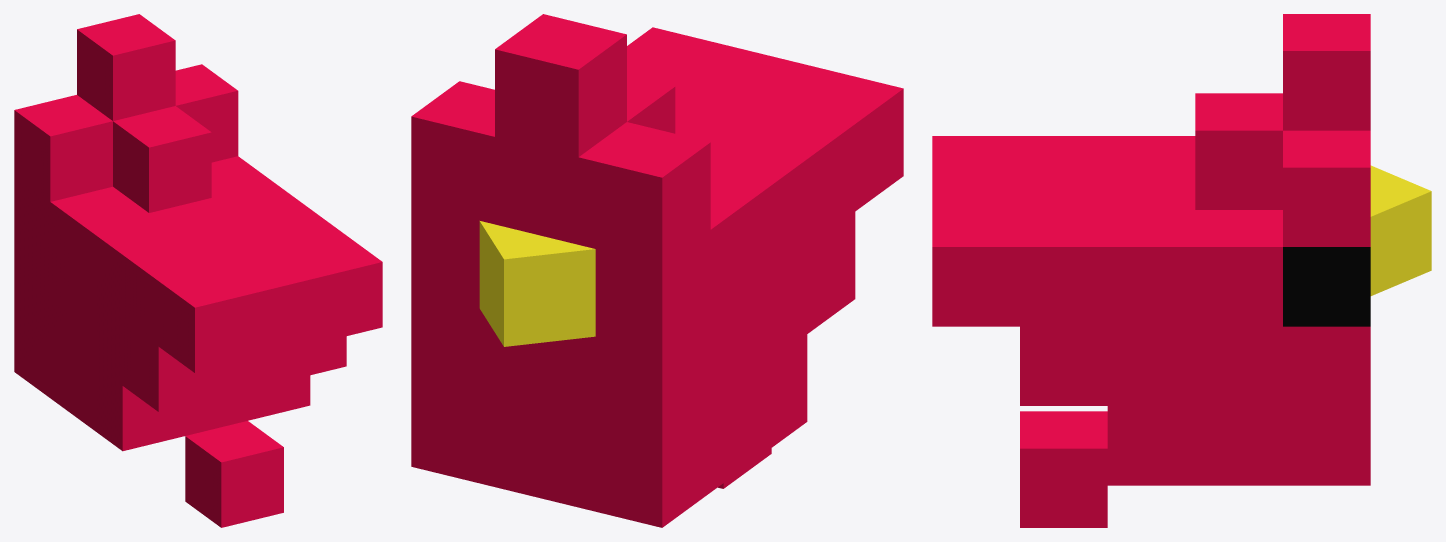
Rendered from cardinal.gltf.
3 views of the same model, side by side, from view 1: azimuth 30°, elevation 25°; view 2: azimuth 150°, elevation 25°; view 3: azimuth 270°, elevation 25° (orthographic). The views are drawn at different scales.
Parts seen in each view (by area): view 1: cardinal-Local; view 2: cardinal-Local, bec-Local; view 3: cardinal-Local, eye-Local, bec-Local.
Boxes of the visible parts, <box> form: cardinal-Local: <box>14,14,382,527</box>; cardinal-Local: <box>411,14,903,527</box>; bec-Local: <box>479,221,595,346</box>; cardinal-Local: <box>932,14,1370,527</box>; eye-Local: <box>1283,247,1370,326</box>; bec-Local: <box>1370,165,1431,295</box>.
Size of the model in its own units: 3 by 6 by 5.69.
Materials: 3 (3 with a texture image).
